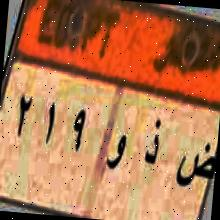1: (38, 94, 64, 164)
2: (8, 84, 37, 142)
9: (64, 101, 92, 162)
daad: (172, 136, 218, 200)
waw: (100, 123, 132, 181)
zaal: (139, 109, 166, 177)
